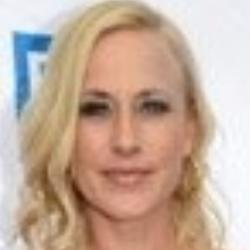face: (7, 1, 242, 233)
